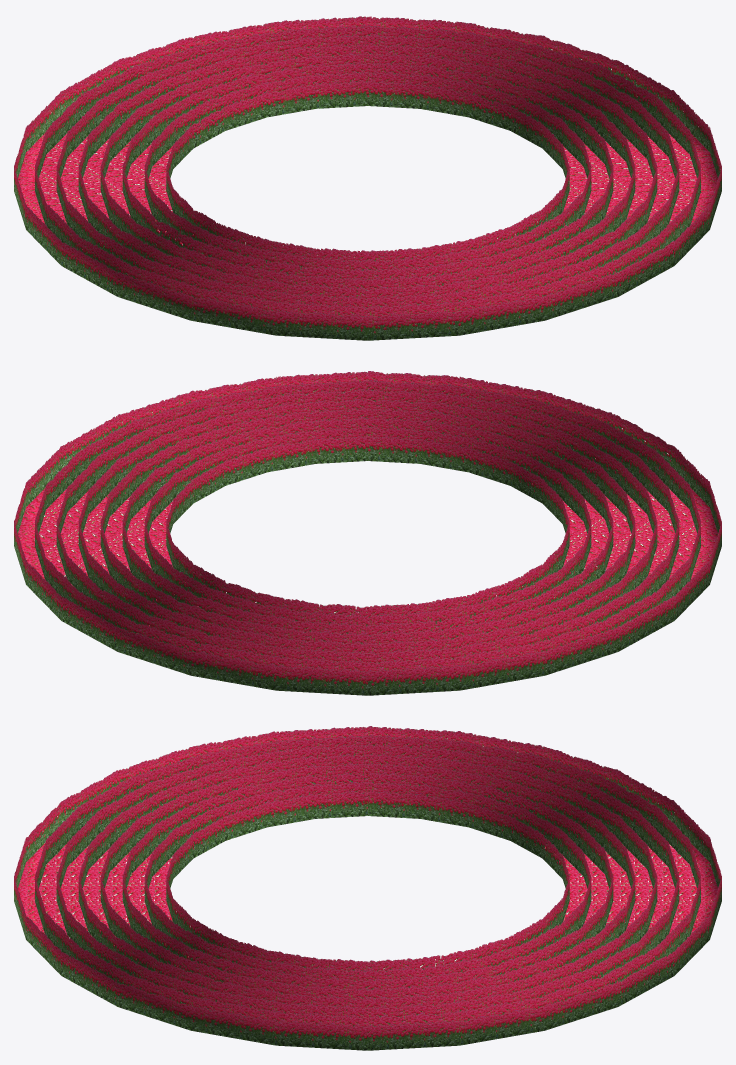
The model's file is Fountain.fbx.
3 views of the same model, one above another, from view 1: azimuth 30°, elevation 25°; view 2: azimuth 150°, elevation 25°; view 3: azimuth 270°, elevation 25° (orthographic).
Visible parts, largest first — view 1: North_Fountain1; view 2: North_Fountain1; view 3: North_Fountain1.
Part boxes in pixels (x1,y1,x2,y2): North_Fountain1: [14, 16, 721, 340]; North_Fountain1: [14, 371, 721, 695]; North_Fountain1: [14, 726, 721, 1050].
Size of the model in its own units: 21.41 by 0.9144 by 21.41.
